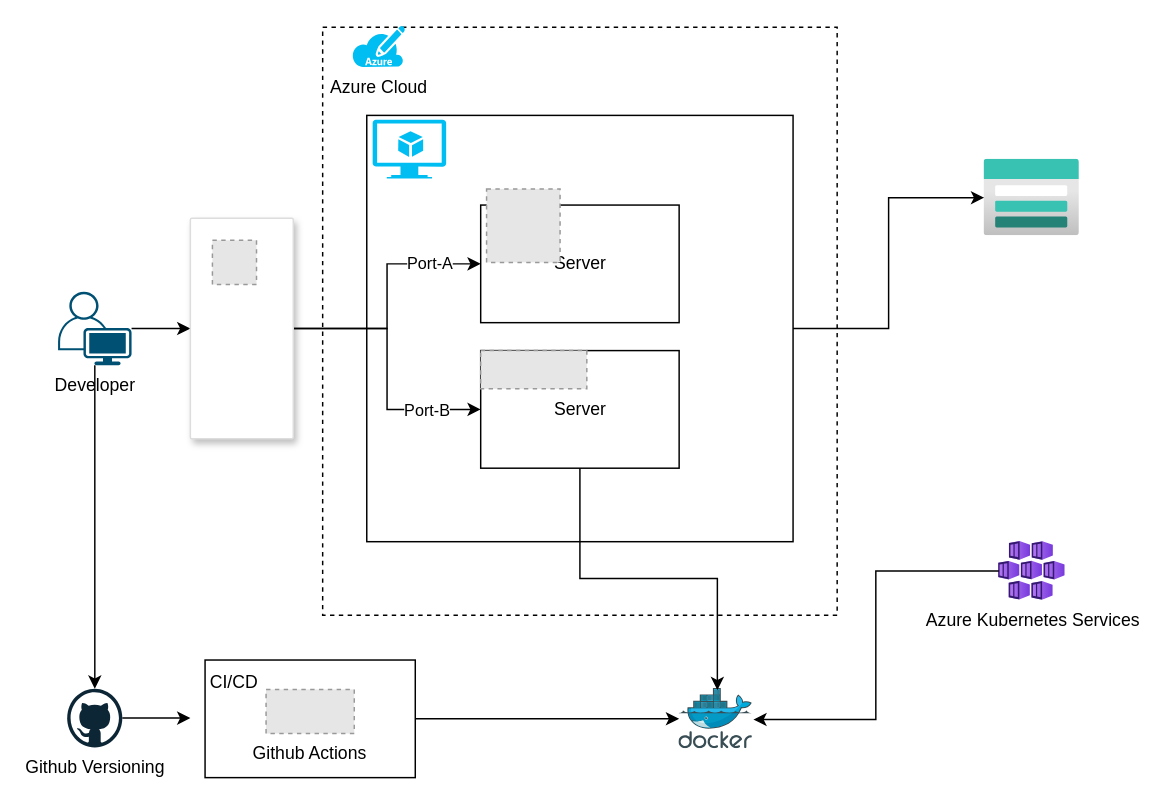
This 1164x804 diagram has some shape labels left out. Grey dashed boxes stand in for pictures. The shapes that lost their labels are listed below. From the top down, each one's centre as x and y in pixels, then its label:
At point (408, 148): "Azure VM".
At point (1031, 197): "Azure Storage Account".
At point (242, 330): "Exposed IPs".
At point (715, 718): "Docker Hub".
